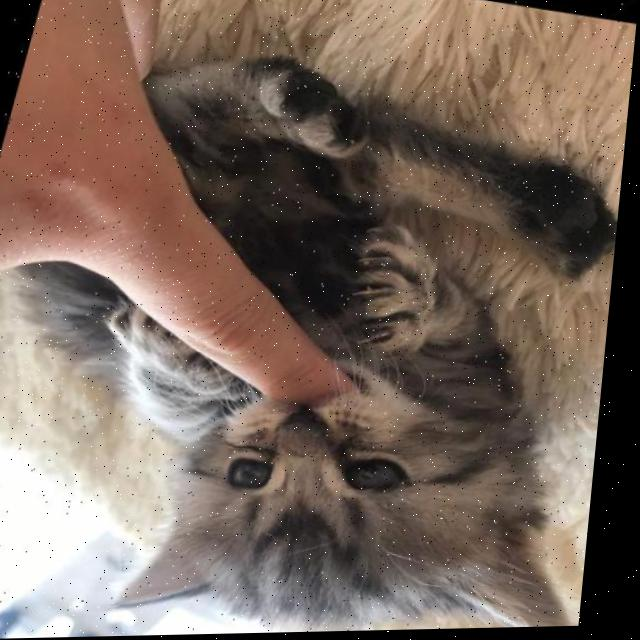Cats: (3, 39, 636, 639)
